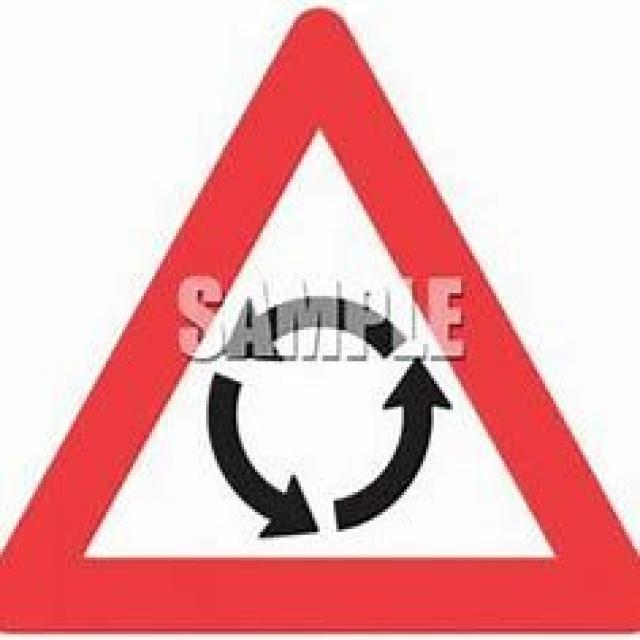ROUNDABOUT: (0, 2, 637, 628)
